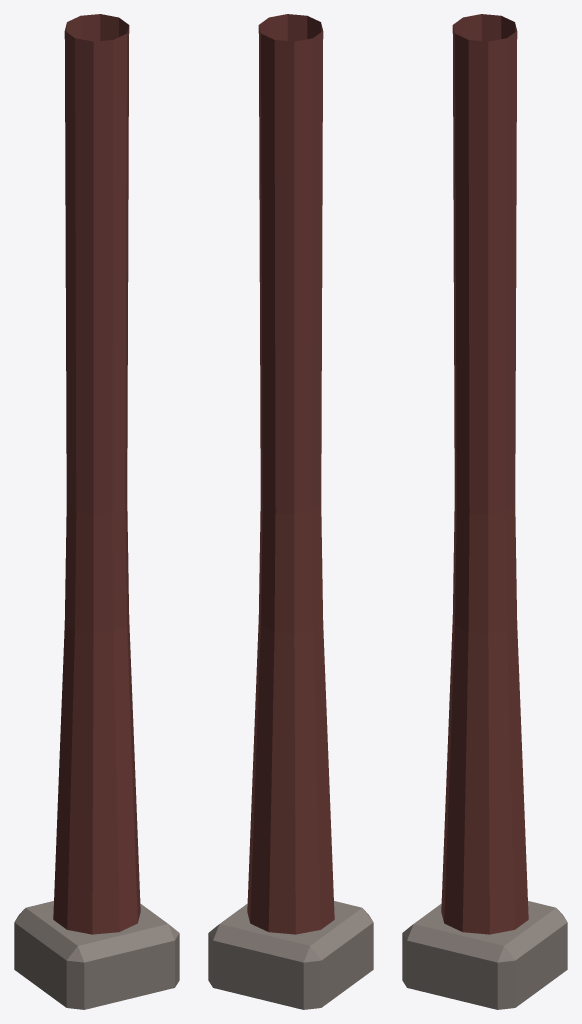
File: Column_1.fbx
3 views of the same model, side by side, from view 1: azimuth 30°, elevation 25°; view 2: azimuth 150°, elevation 25°; view 3: azimuth 330°, elevation 25° (orthographic).
Parts seen in each view (by area): view 1: Column_1; view 2: Column_1; view 3: Column_1.
Boxes of the visible parts, x1,y1,x2,y2 form: Column_1: (14, 14, 179, 1009); Column_1: (208, 14, 373, 1009); Column_1: (402, 14, 567, 1009).
Size of the model in its own units: 0.5 by 0.5 by 4.
